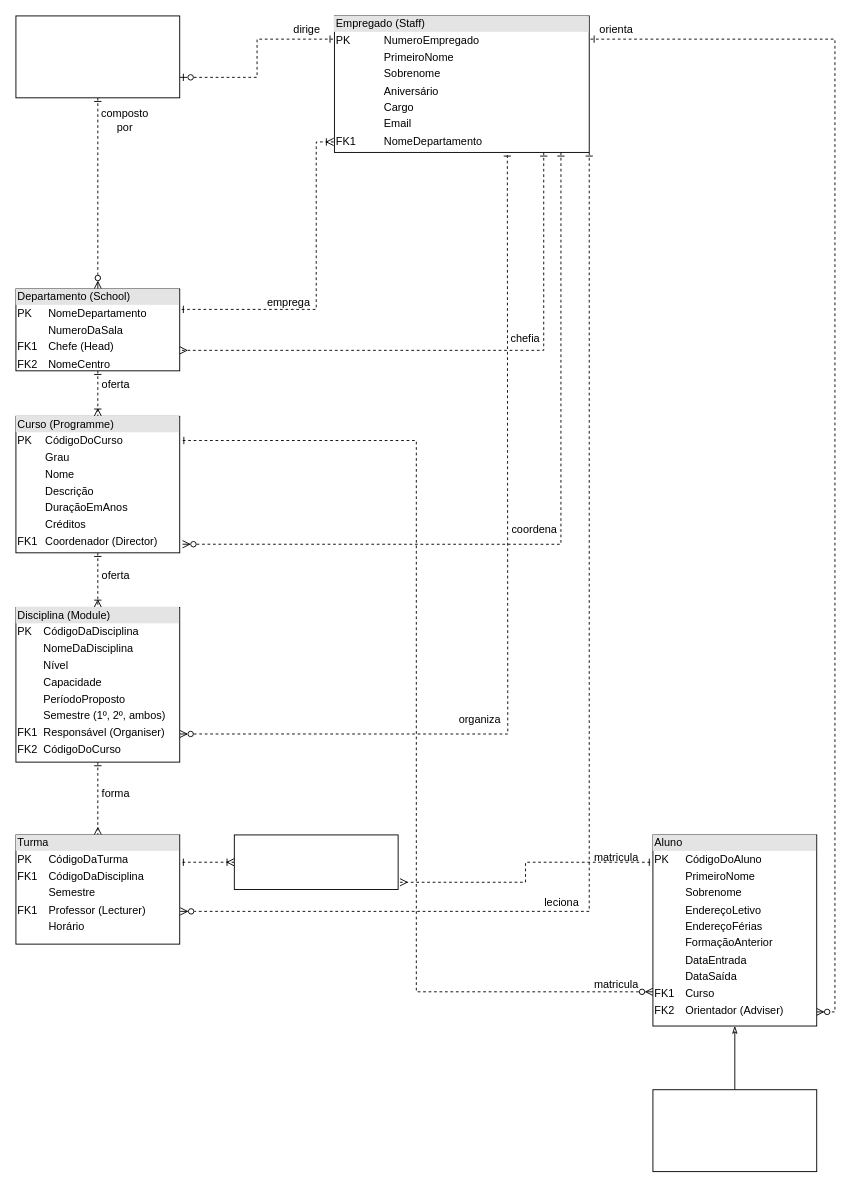
Image size: 859x1188. Some labels were removed from this diagram. The centre of each missing label's shape, as x and y in pixels:
"Aluno PGR FK1 CódigoDoAluno Qualificação" belongs at pixel 734 1130.
"Centro (Faculty) PK NomeCentro NumeroDaSala FK1 Diretor (Dean)" belongs at pixel 97 56.
"Matricula PK1 CódigoDaTurma PK2 CódigoDoAluno" belongs at pixel 315 862.
